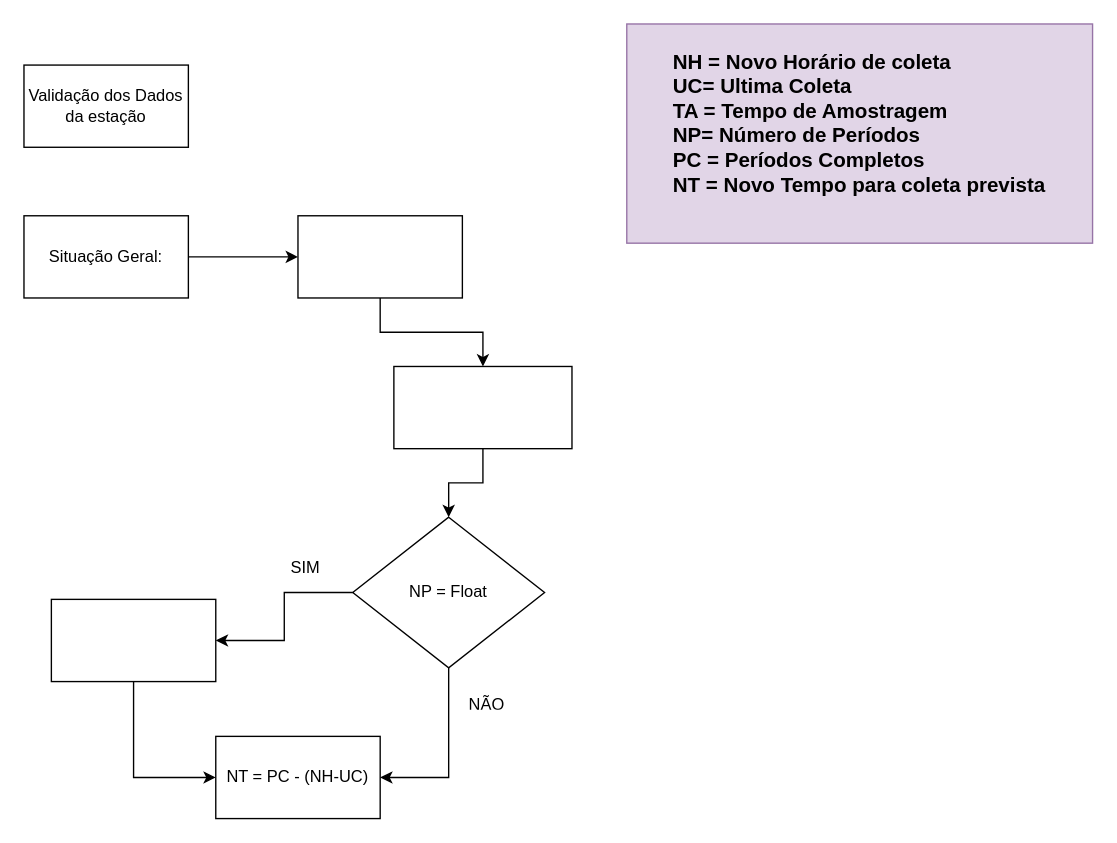
This 1117x843 diagram has some shape labels left out. Each missing label, with the centre of its shape:
NP= (Nh - UC)/TA: [482,407]
PC = INT (do número de periodos) + 1: [133,640]
Queda de Internet: [379,256]
